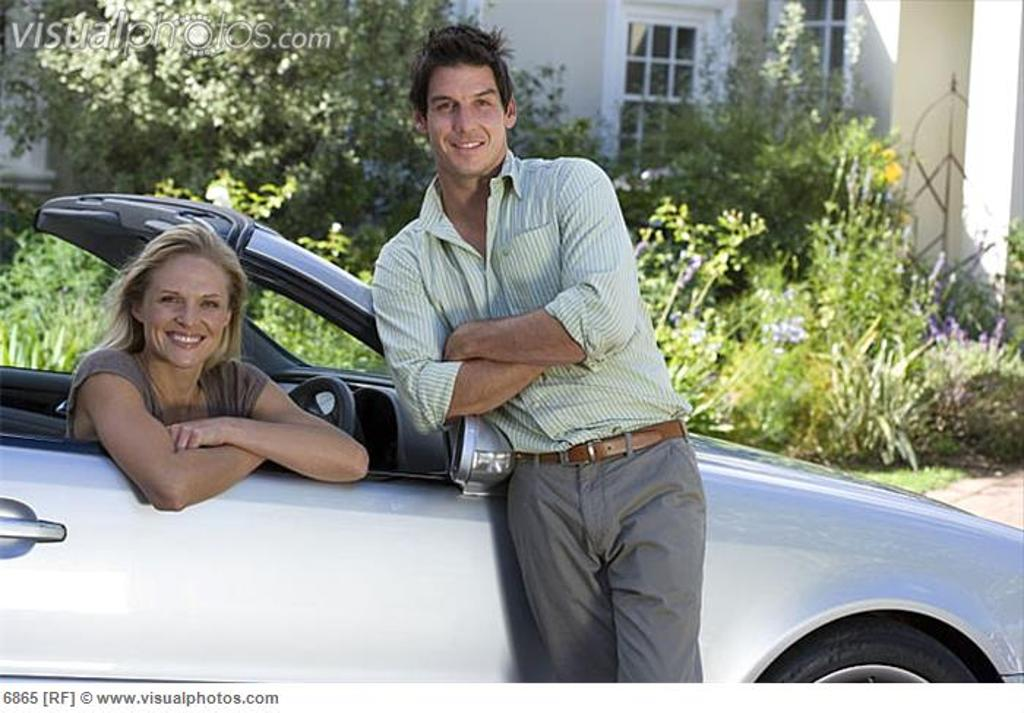face: (146, 256, 228, 360), (428, 64, 498, 166)
